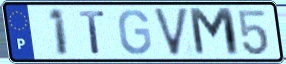1: (47, 7, 73, 58)
5: (236, 8, 271, 57)
G: (117, 9, 154, 57)
M: (186, 6, 243, 59)
T: (77, 9, 107, 56)
V: (151, 6, 192, 59)
